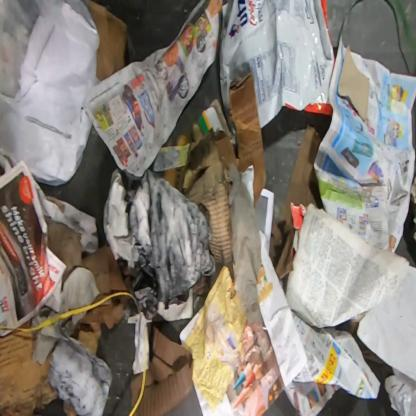cardboard: (148, 70, 266, 273), (131, 325, 194, 415), (0, 321, 59, 415), (338, 43, 370, 122), (72, 321, 102, 356)
soft_plastic: (0, 0, 100, 184), (218, 0, 336, 130)
